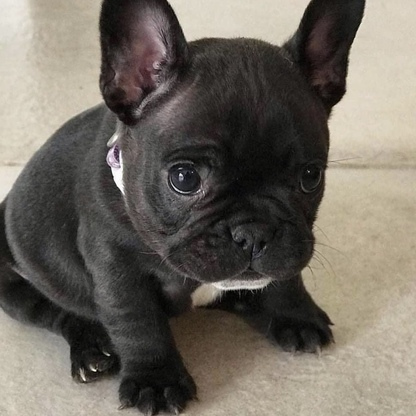bulldog: (9, 6, 357, 411)
